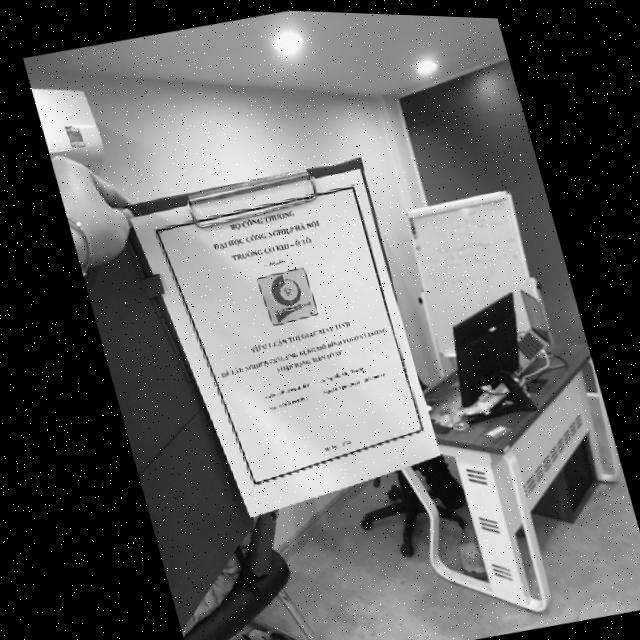document: (130, 168, 441, 516)
